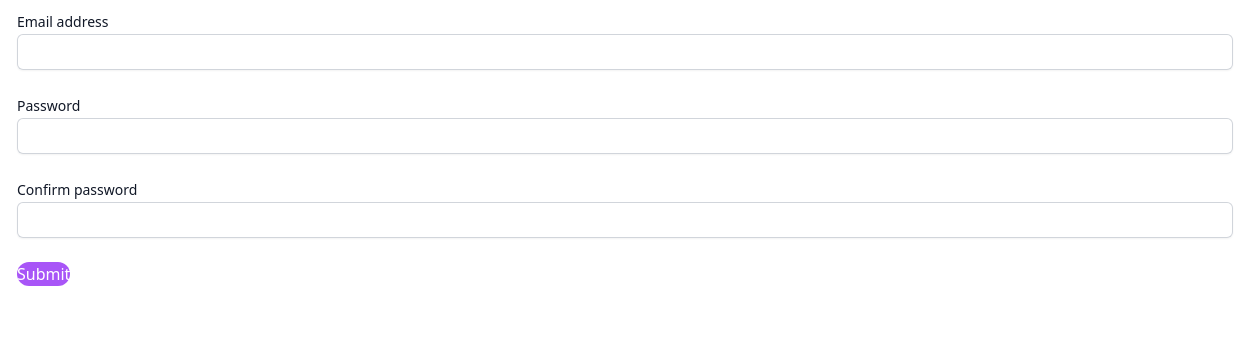
App › Error Handling › should show confirm password error if passwords don't match
The width and height of the screenshot is (1251, 352).
Step 1. Type "hanie@gmail.com" into the field → x=625, y=52, box [17,34,1233,70]
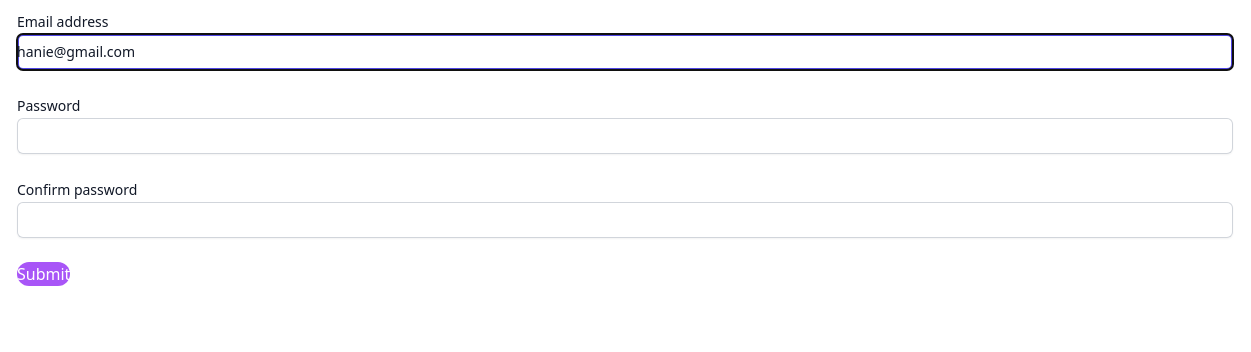
Step 2. Type "12345" into the password field named "confirm password" → x=625, y=136, box [17,118,1233,154]
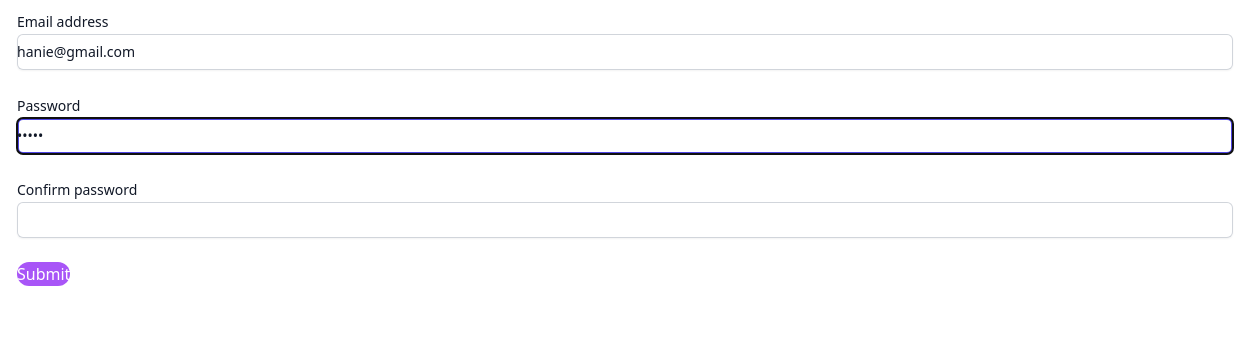
expect the text "the password don't match. try again." is not shown: met
Step 3. Type "123456" into the password field named "confirm password" → x=625, y=136, box [17,118,1233,154]
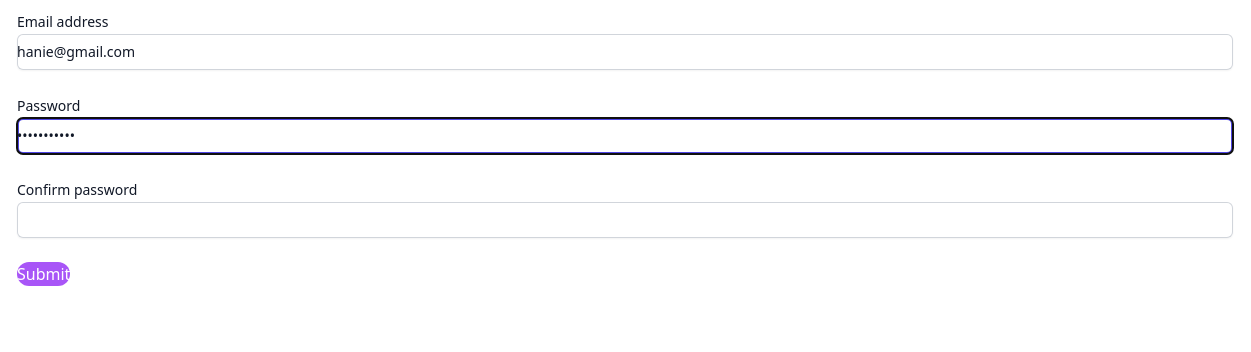
Step 4. Click the button "Submit" → x=44, y=274, box [17,262,70,286]
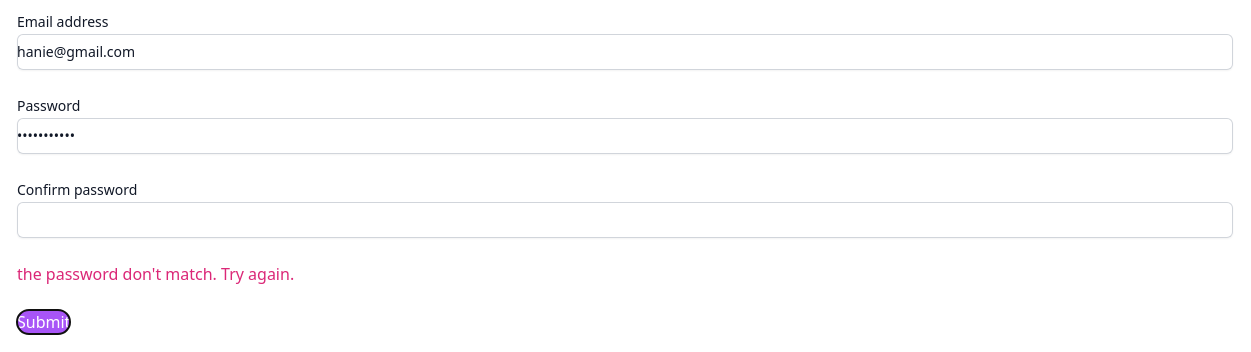
expect the text "the password don't match. Try again." is shown: met, box [17,263,294,285]
